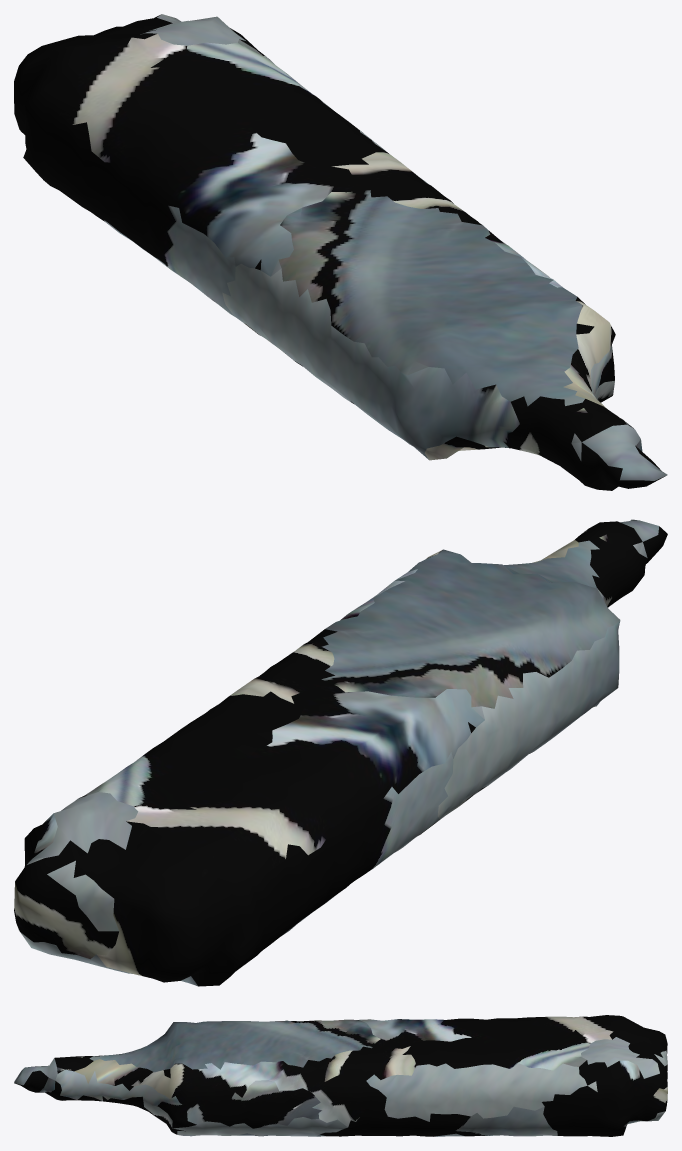
File: scan_align.obj
The picture shows the model from 3 angles, top to bottom: view 1: azimuth 30°, elevation 25°; view 2: azimuth 150°, elevation 25°; view 3: azimuth 270°, elevation 25°; orthographic projection. The views are drawn at different scales.
Size of the model in its own units: 0.0252 by 0.0152 by 0.1083.
